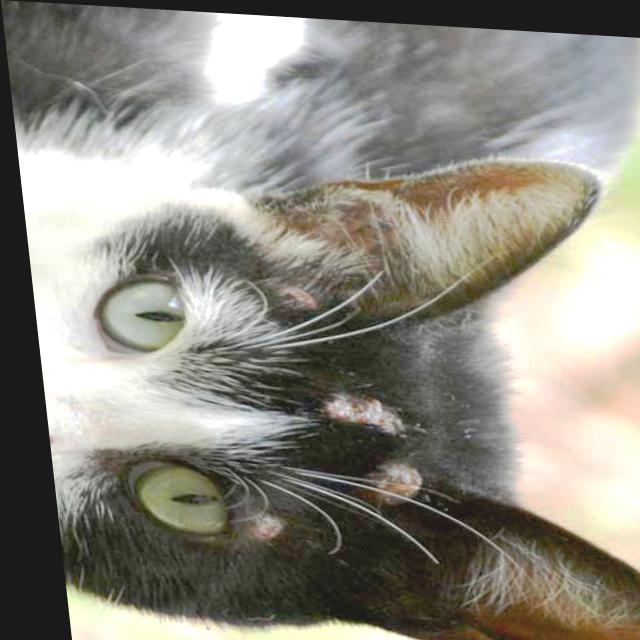lump_and_bump: (322, 393, 401, 433), (370, 464, 422, 497), (248, 516, 283, 540), (282, 289, 314, 308)
